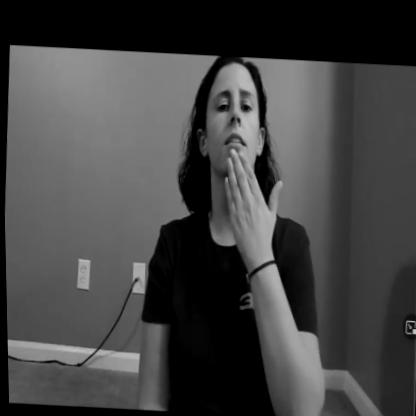ThankYou: (164, 51, 306, 293)
